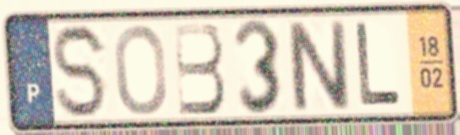3: (232, 16, 285, 118)
B: (171, 19, 229, 118)
L: (353, 19, 404, 110)
N: (283, 17, 354, 115)
O: (112, 22, 170, 118)
S: (50, 20, 111, 122)
